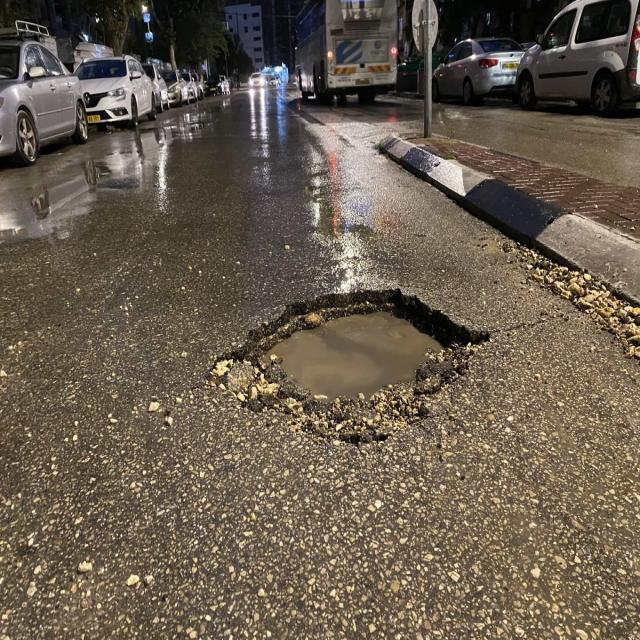major_pothole: (212, 284, 488, 450)
